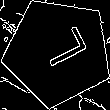L_SW: (29, 27, 87, 77)
